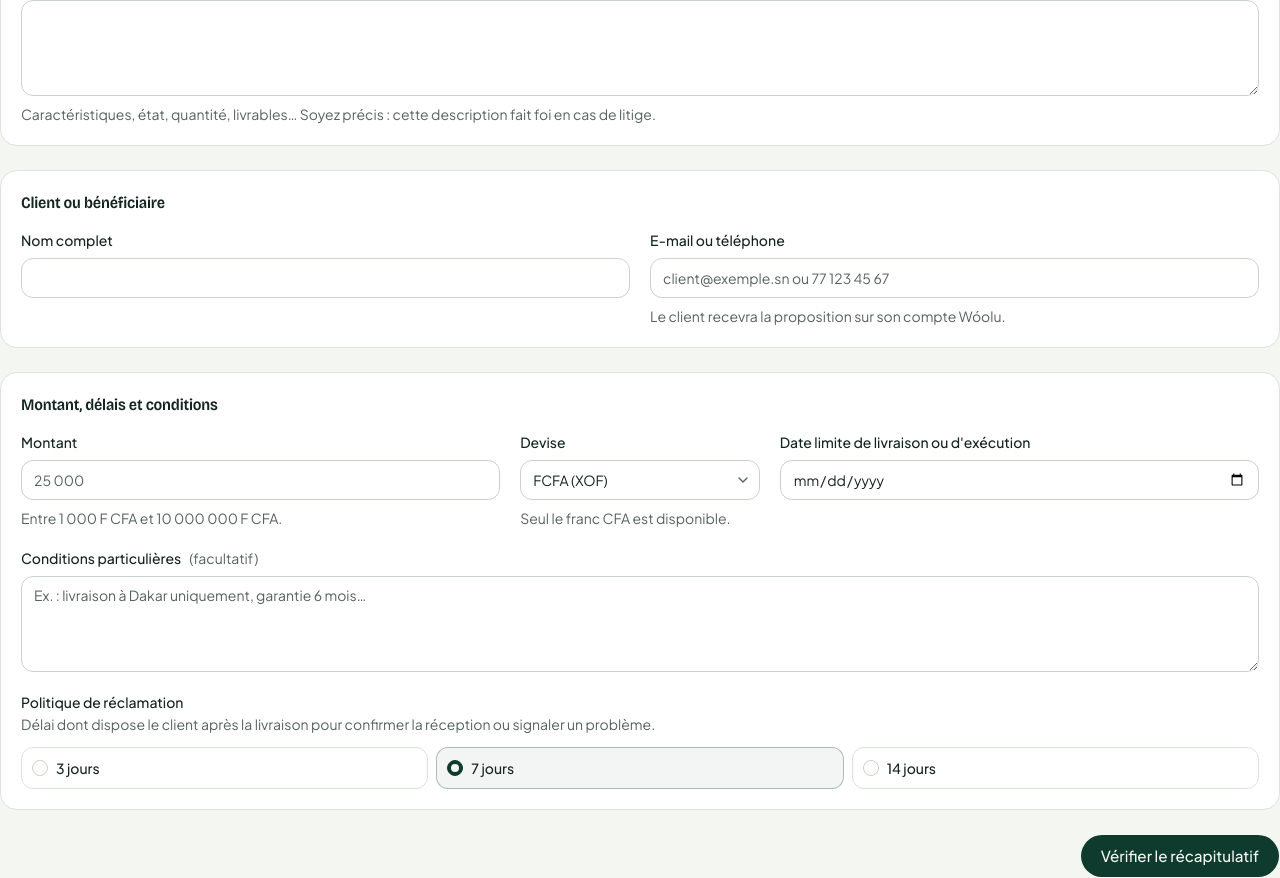
Test: CreateTransactionForm › affiche les erreurs de validation sans appeler le serveur
(page scrolled)
Click the button "Vérifier le récapitulatif".
click(1180, 856)  # box [1080, 834, 1279, 877]
(page scrolled)
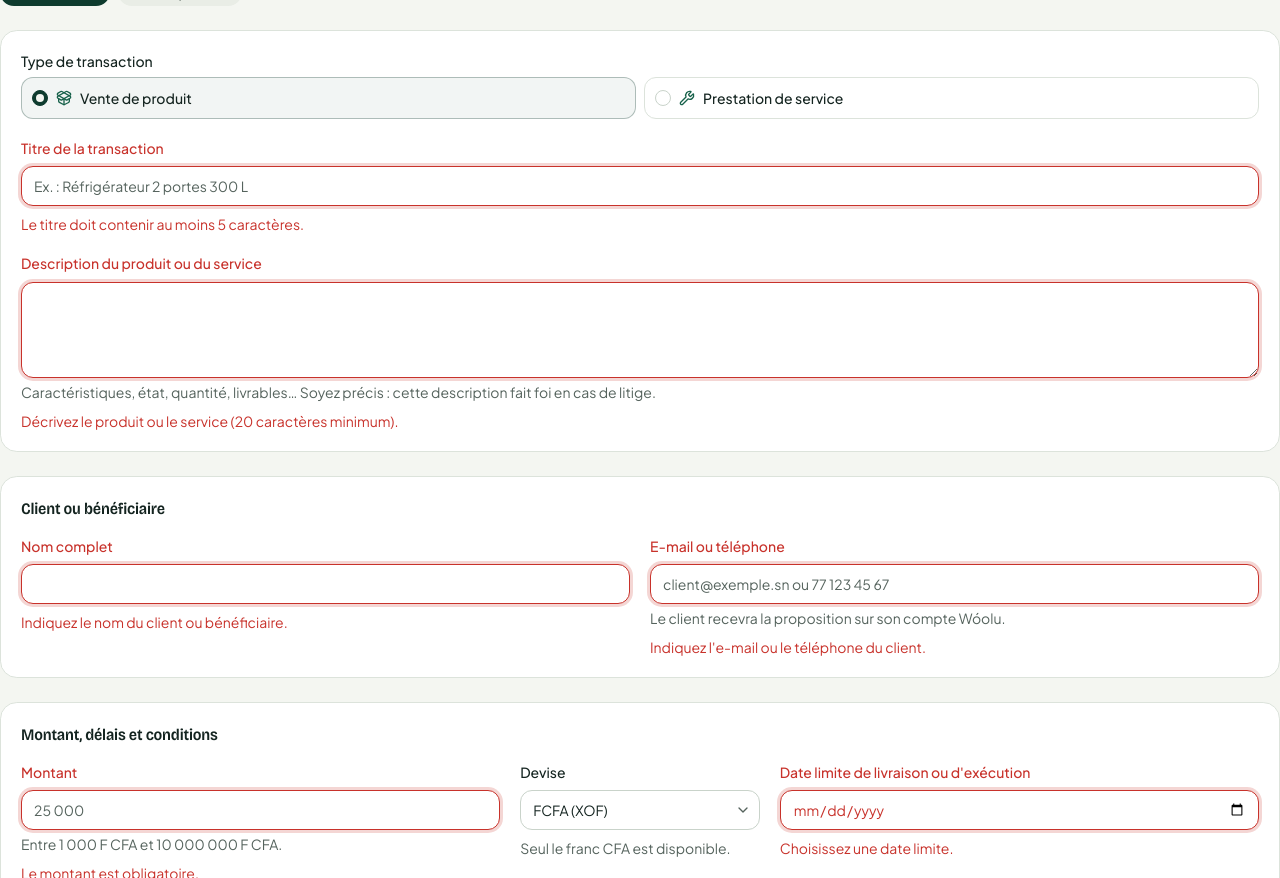
Expected: the text "Le titre doit contenir au moins 5 caractères." is shown, [21, 215, 304, 233]
Expected: the text "Indiquez l'e-mail ou le téléphone du client." is shown, [650, 638, 926, 656]
